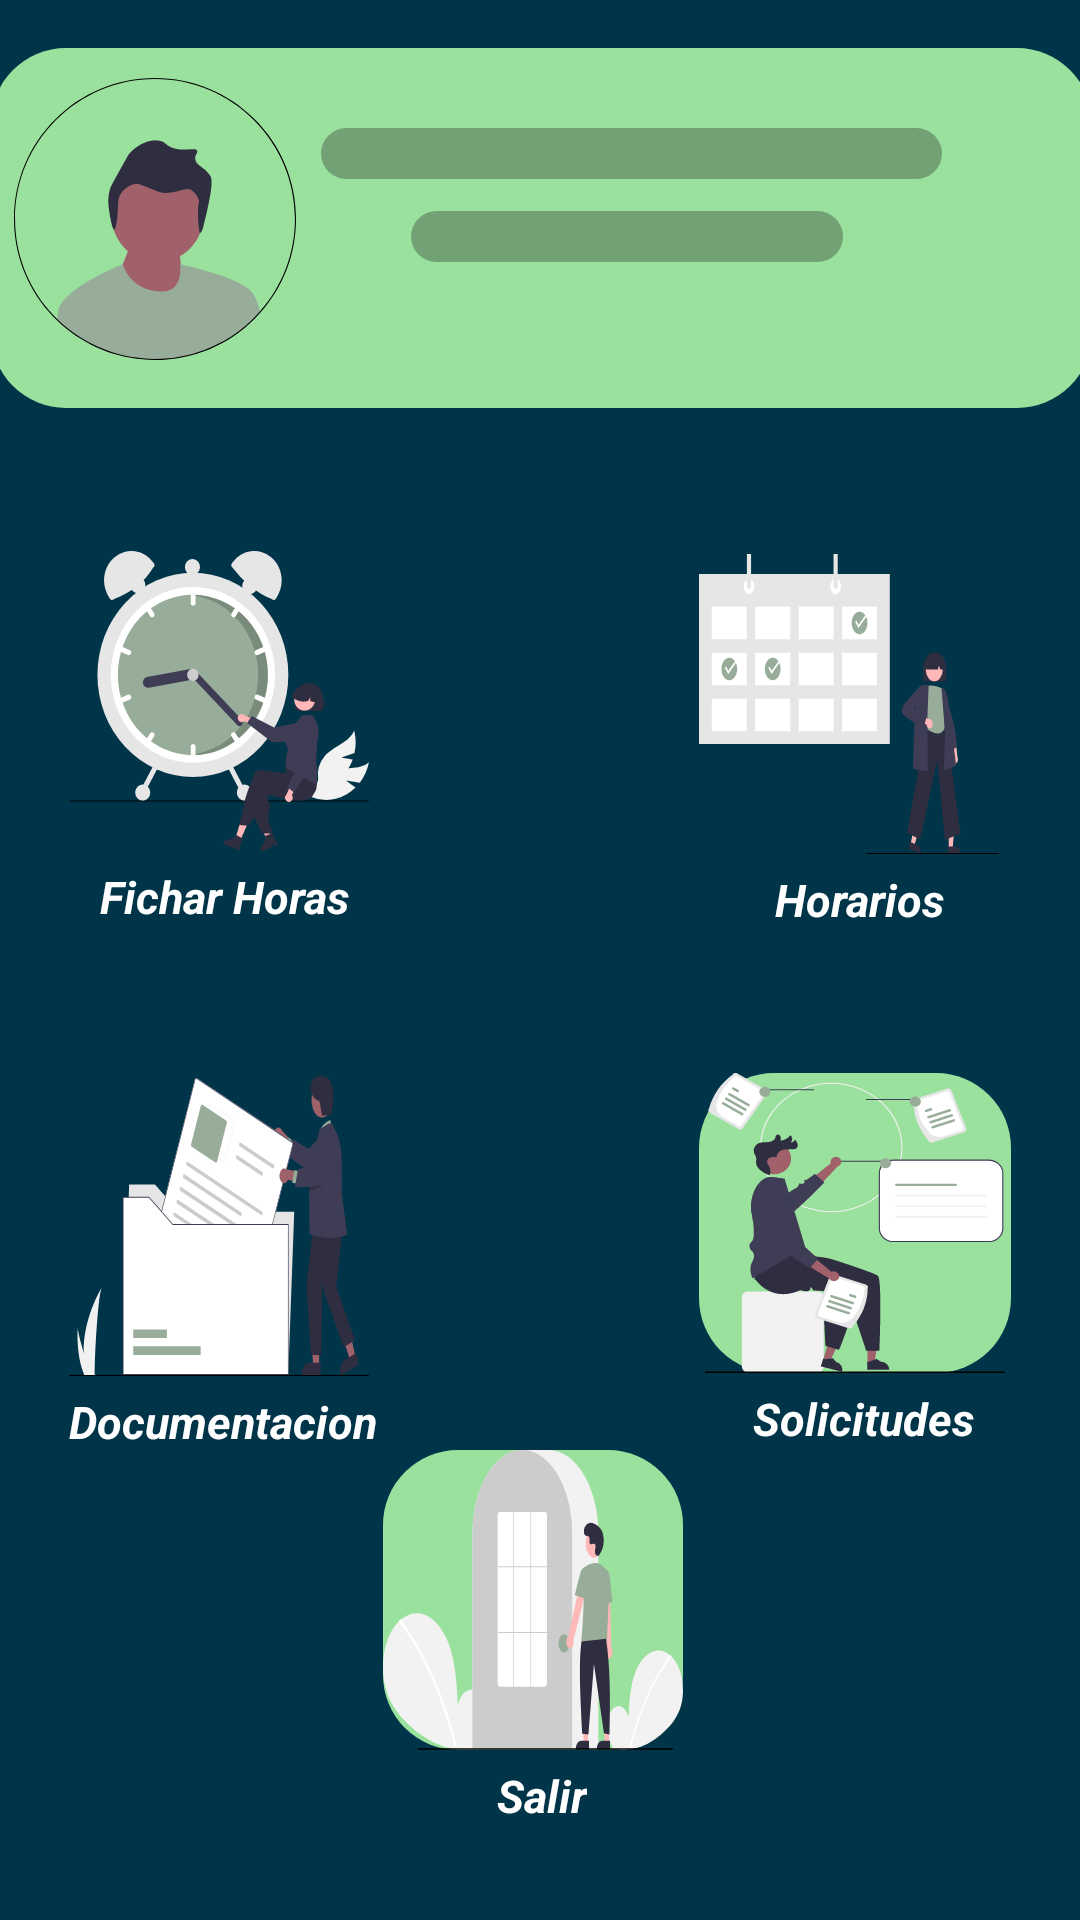

Named icons in this screenshot (1080*1920) and their bounding boxes, (x1, y1, x2, y2):
calendar: (699, 554, 999, 854)
manprofile: (14, 78, 296, 360)
